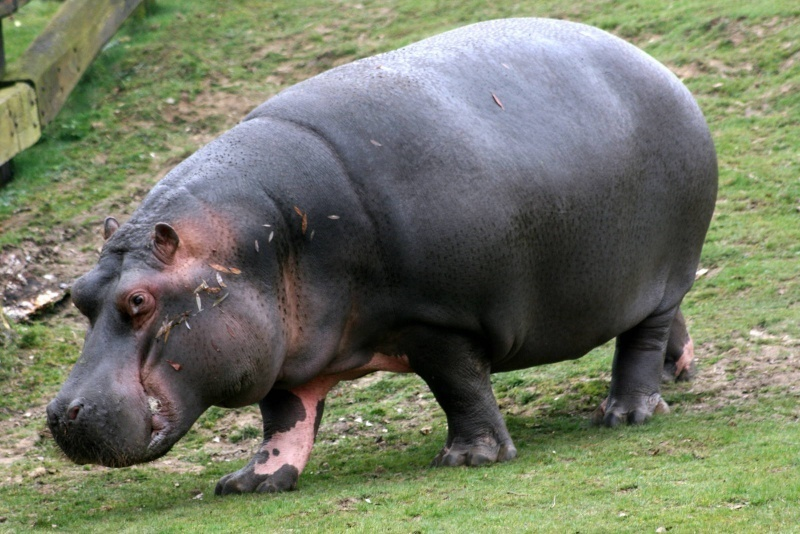hipopotamo: (46, 11, 735, 510)
